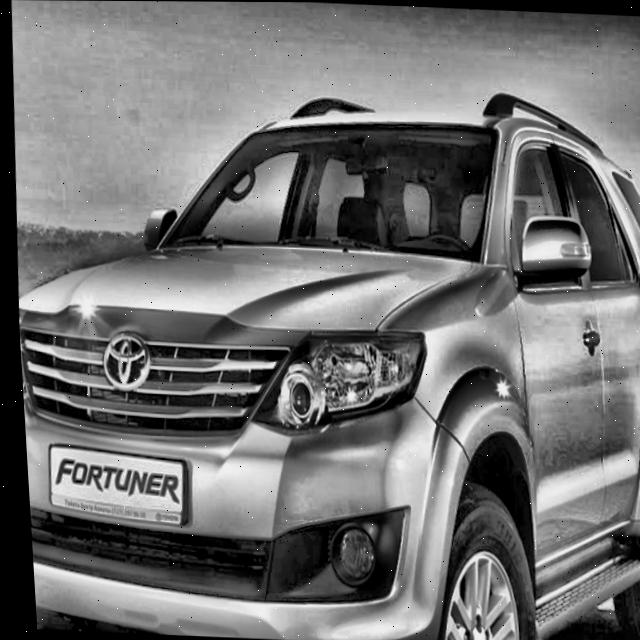light_vehicle: (3, 74, 640, 640)
